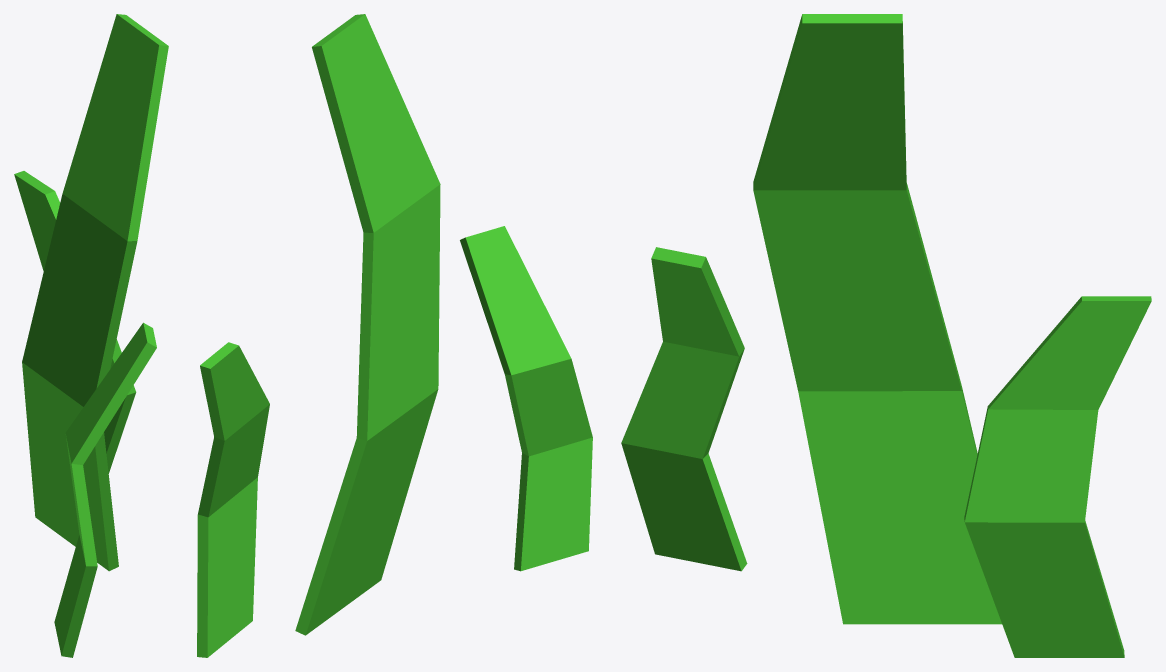
File: Grass_1.fbx
3 renders of one model, left to right at view 1: azimuth 30°, elevation 25°; view 2: azimuth 150°, elevation 25°; view 3: azimuth 270°, elevation 25°, orthographic. The views are drawn at different scales.
Visible parts, largest first — view 1: Grass_1; view 2: Grass_1; view 3: Grass_1.
Boxes of the visible parts, left/top/right/bottom form: Grass_1: left=14, top=14, right=168, bottom=657; Grass_1: left=197, top=14, right=592, bottom=657; Grass_1: left=621, top=14, right=1151, bottom=657.
Size of the model in its own units: 22.41 by 55.99 by 42.85.
